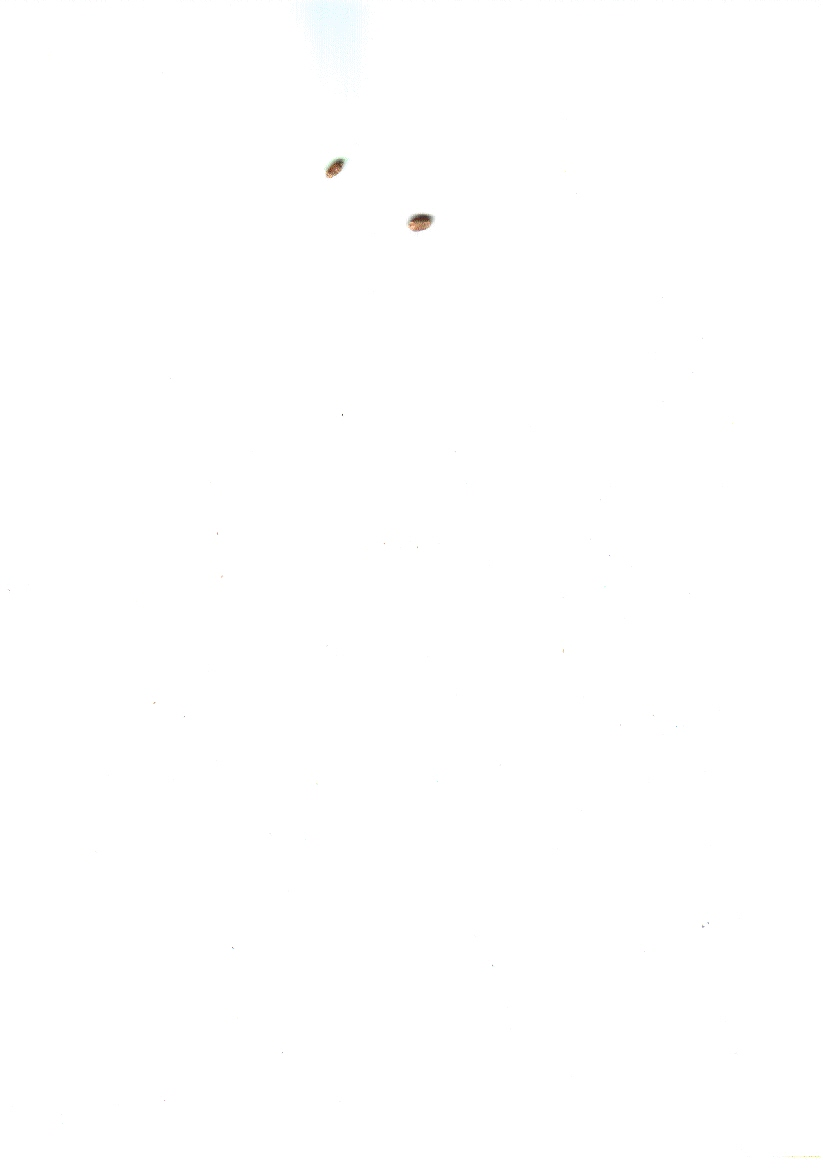grains: (310, 147, 354, 192), (397, 206, 445, 247)
